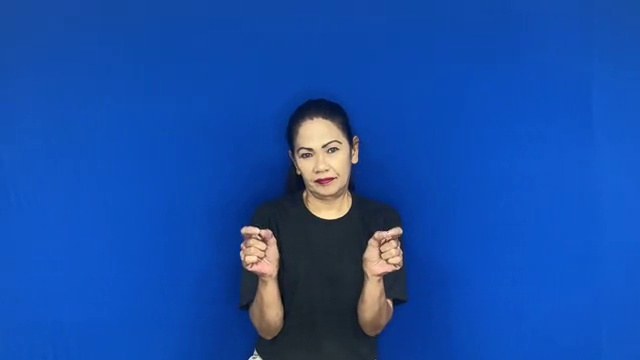crab: (227, 216, 413, 287)
